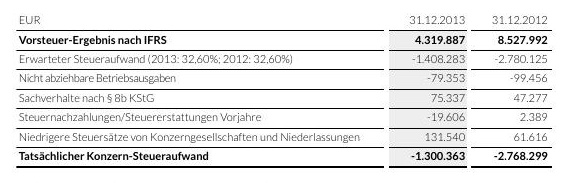table: (0, 0, 566, 183)
